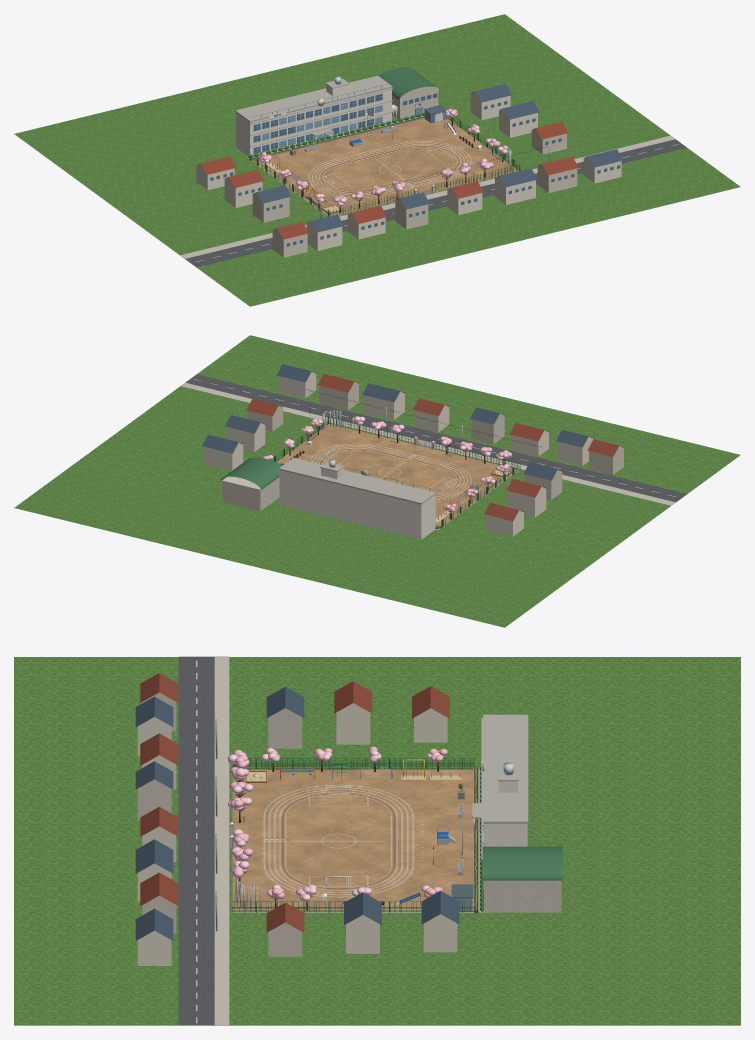
File: schoolyard.glb
3 renders of one model, top to bottom at view 1: azimuth 30°, elevation 25°; view 2: azimuth 150°, elevation 25°; view 3: azimuth 270°, elevation 25°, orthographic. The views are drawn at different scales.
Parts seen in each view (by area): view 1: MAP_mesh; view 2: MAP_mesh; view 3: MAP_mesh.
Boxes of the visible parts, bbox=[...] form: MAP_mesh: bbox=[14, 14, 740, 306]; MAP_mesh: bbox=[14, 335, 740, 627]; MAP_mesh: bbox=[14, 656, 740, 1025].
Size of the model in its own units: 180 by 18.05 by 150.
68 materials, 11 textured.
